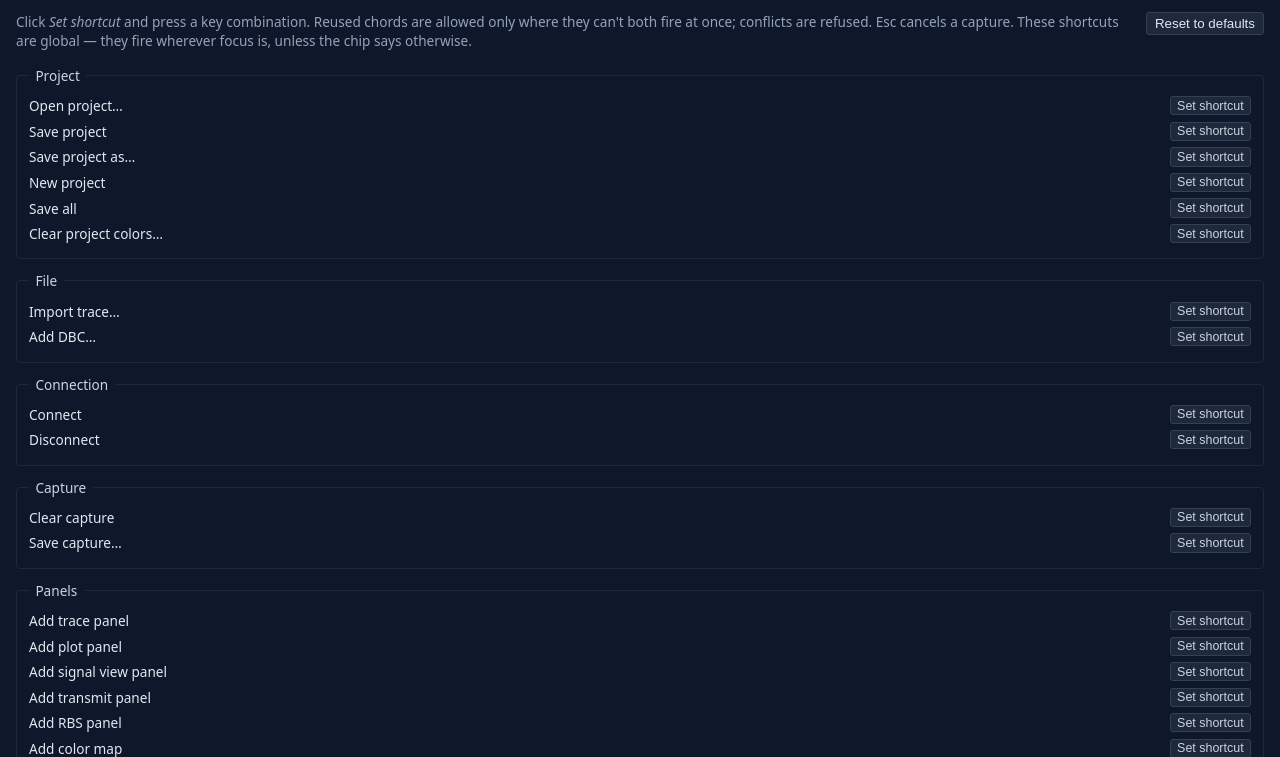
Test: ShortcutsPanel › refuses a conflicting chord and reports it without changing state
Click the button "Set shortcut" in the row of "Clear capture" at (1210, 517), box [1170,508,1251,527]
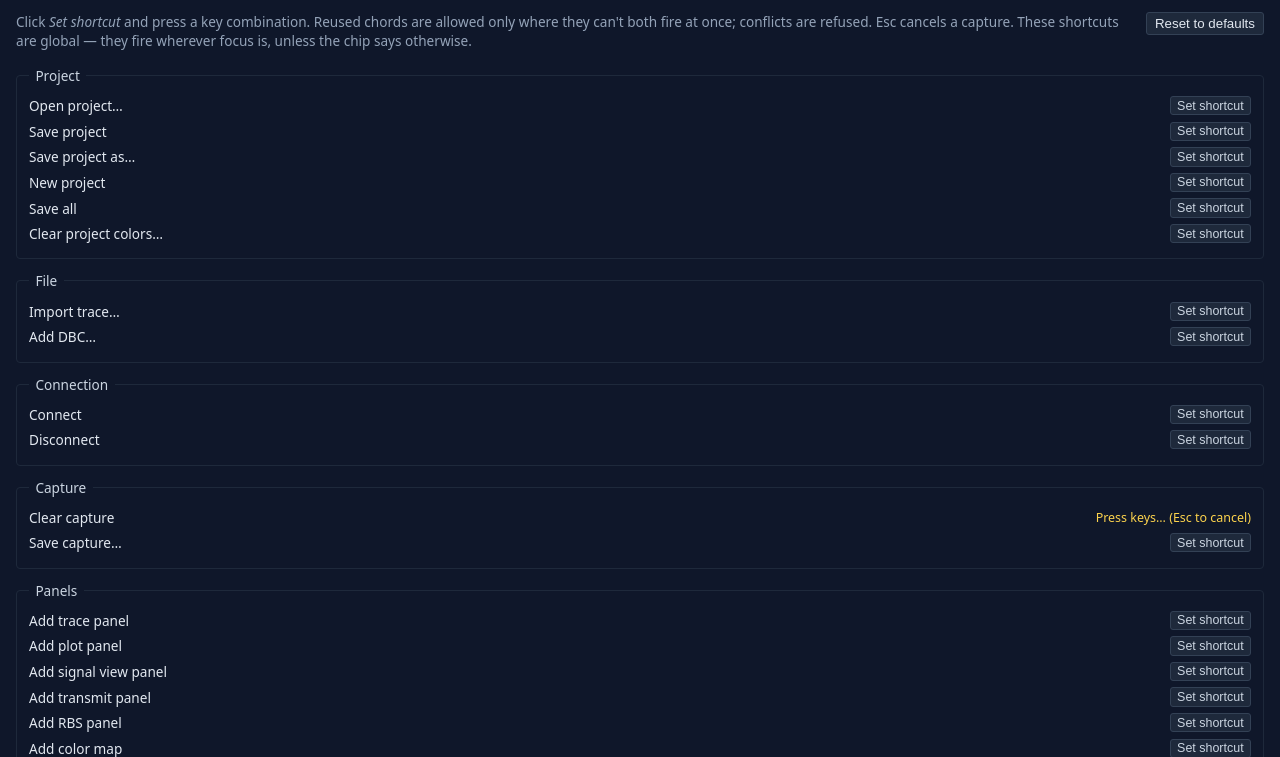
Press p
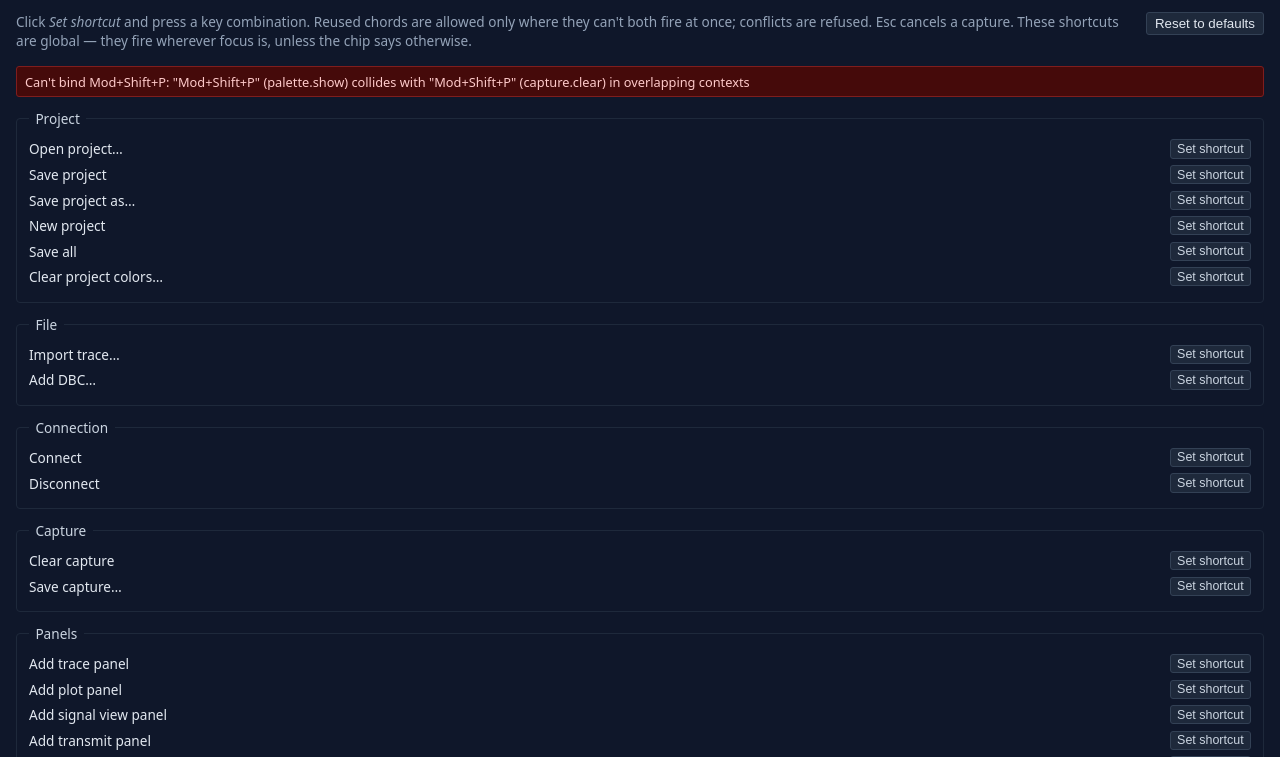
Now the message shows "Can't bind Mod+Shift+P", box [25,73,750,91]
